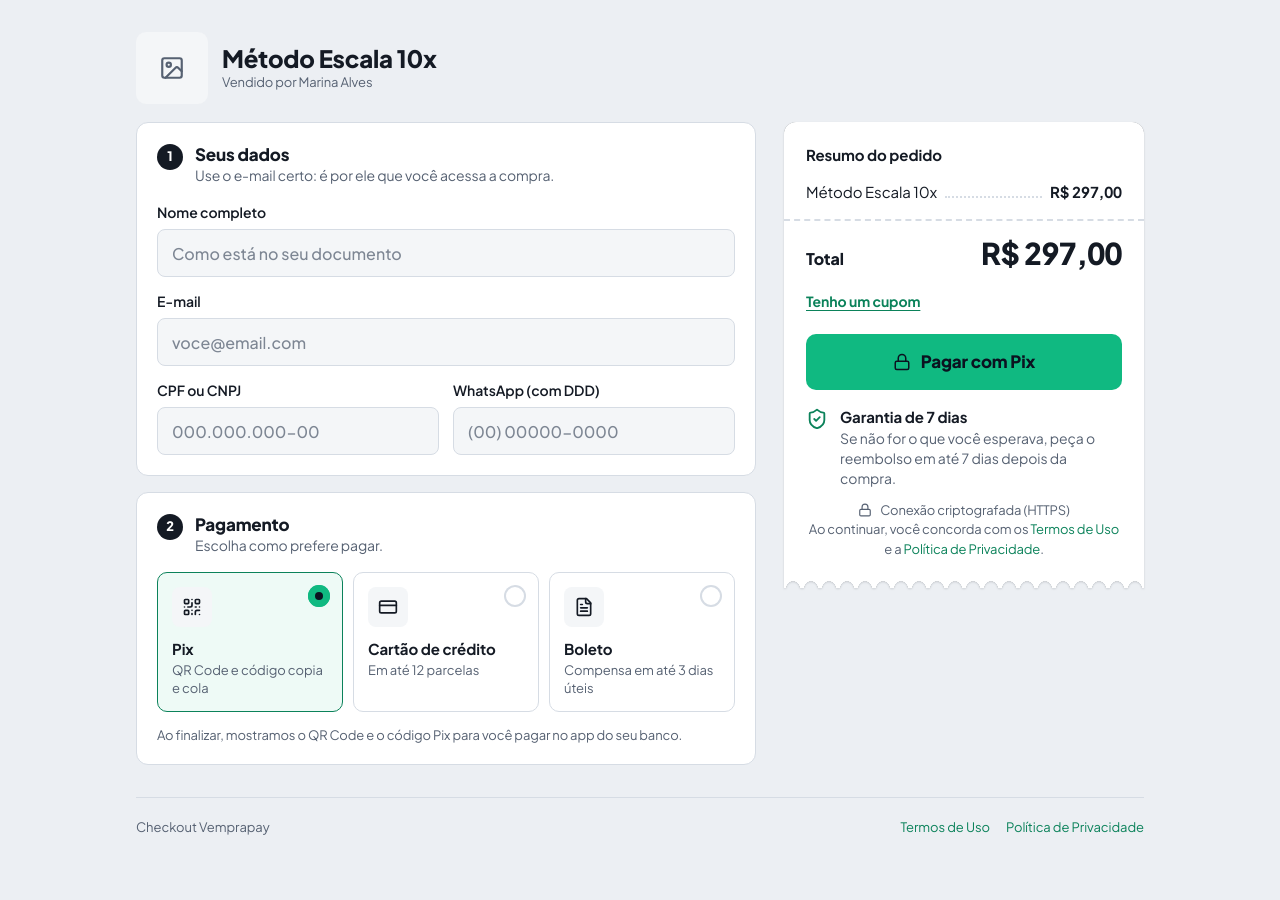
it: checkout público: preenchimento › ao enviar com problema, mostra todos, leva o foco ao primeiro e não chama o processador
Expected: the heading "Método Escala 10x" is shown, [222, 43, 437, 73]
Step 1. Type "Maria Souza Lima" into the field labelled "Nome completo" → (446, 253), box [157, 229, 735, 277]
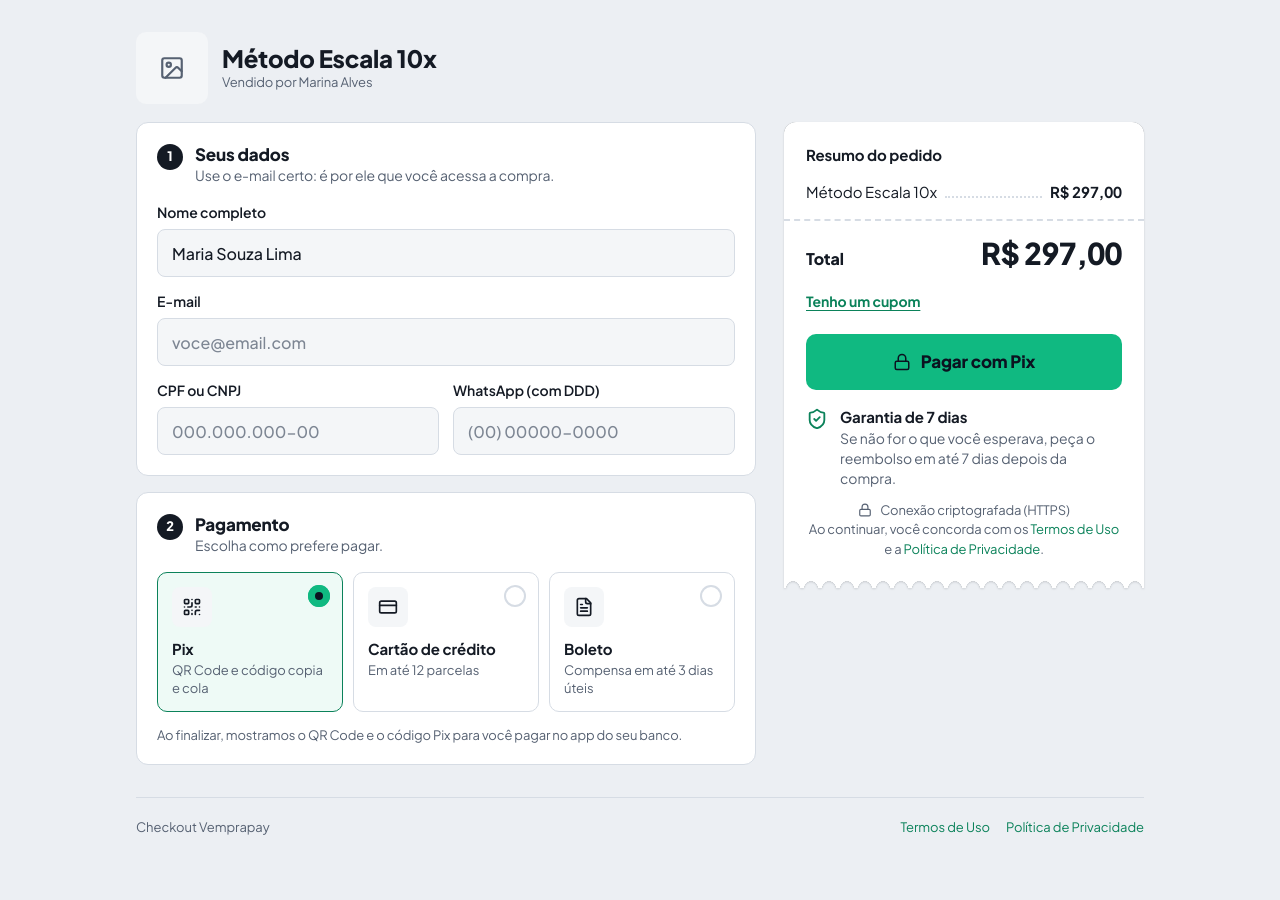
Step 2. Click the button "Pagar com Pix" → (964, 362), box [806, 334, 1122, 390]
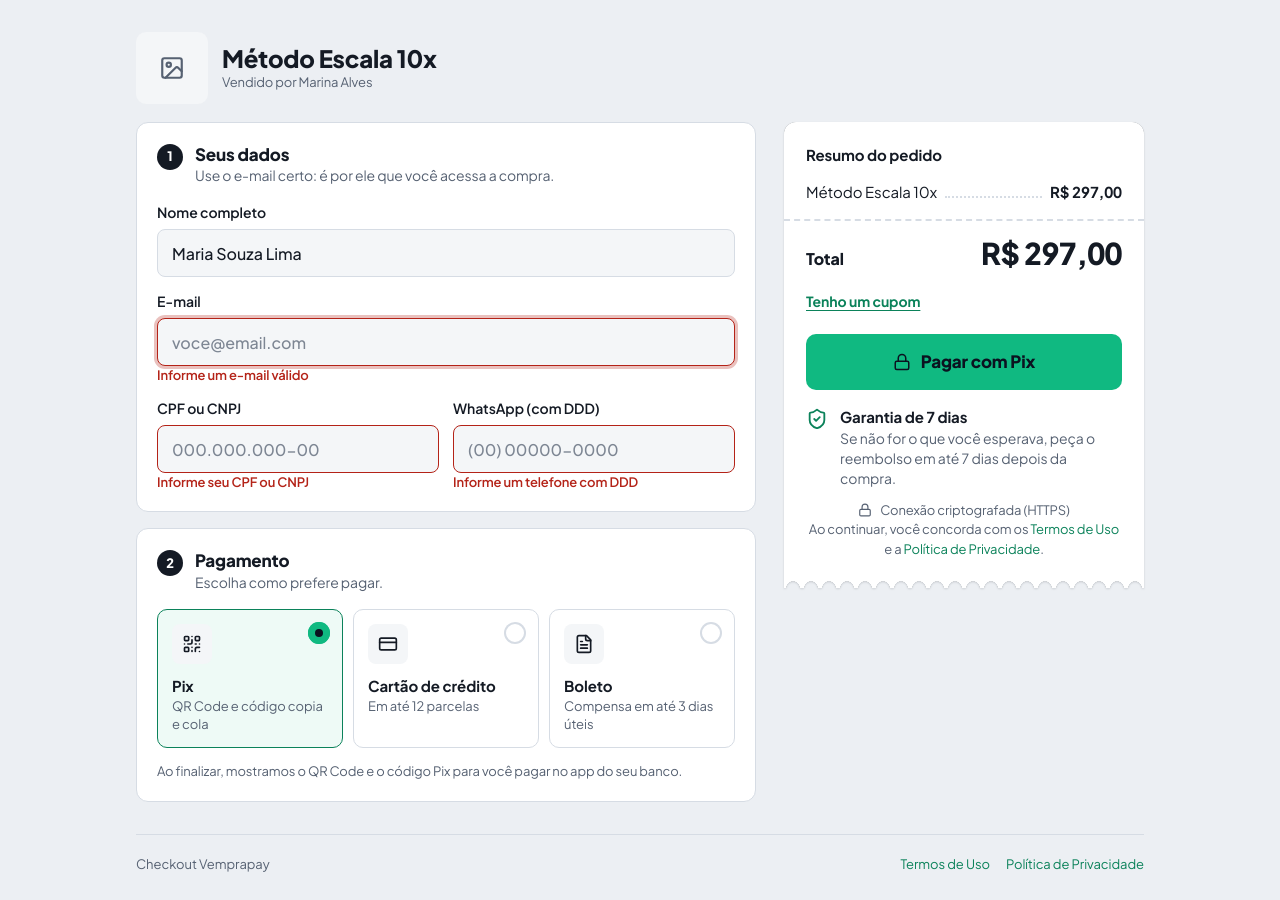
Expected: the text "Informe um e-mail válido" is shown, [157, 367, 309, 383]
Expected: the text "Informe seu CPF ou CNPJ" is shown, [157, 474, 309, 490]
